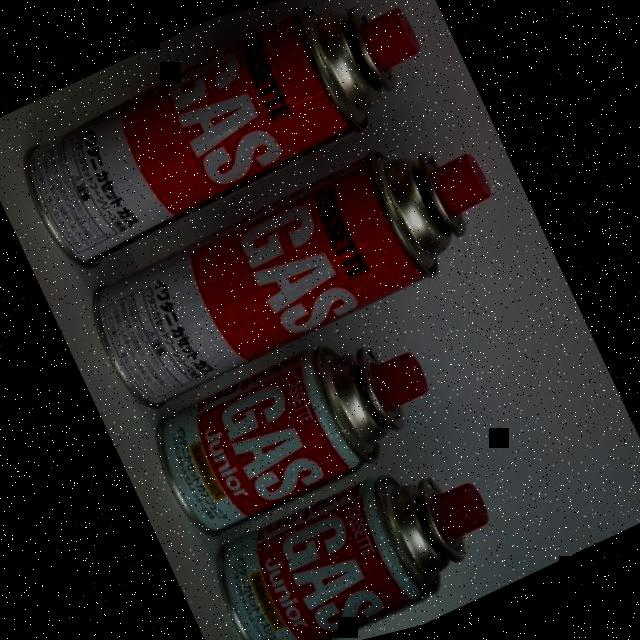chemical_spray_can: (24, 7, 419, 266), (93, 152, 491, 407), (158, 347, 426, 536), (219, 477, 488, 640)
